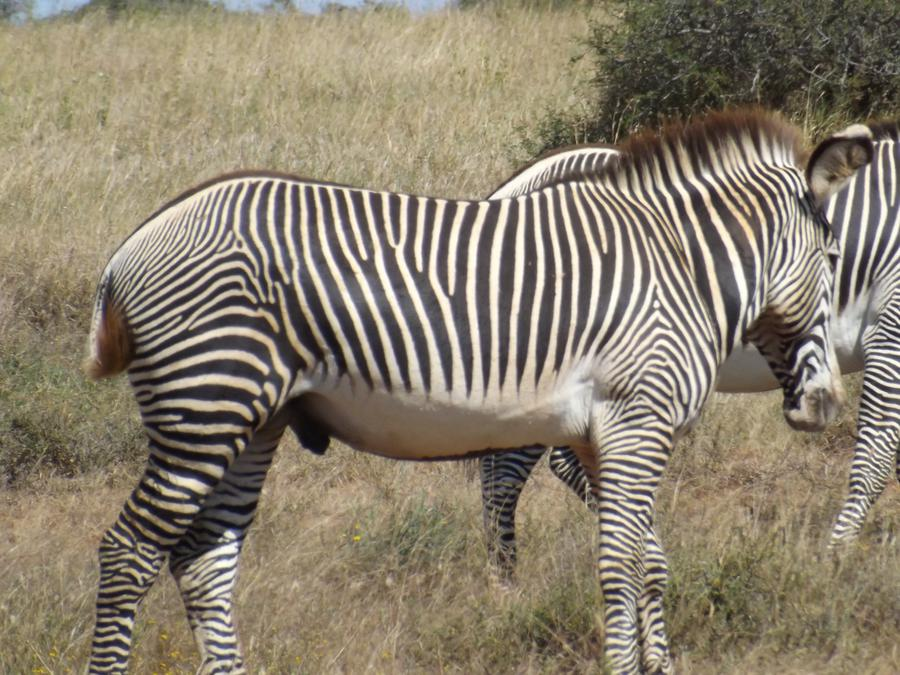zebra_grevys: (90, 152, 684, 455)
